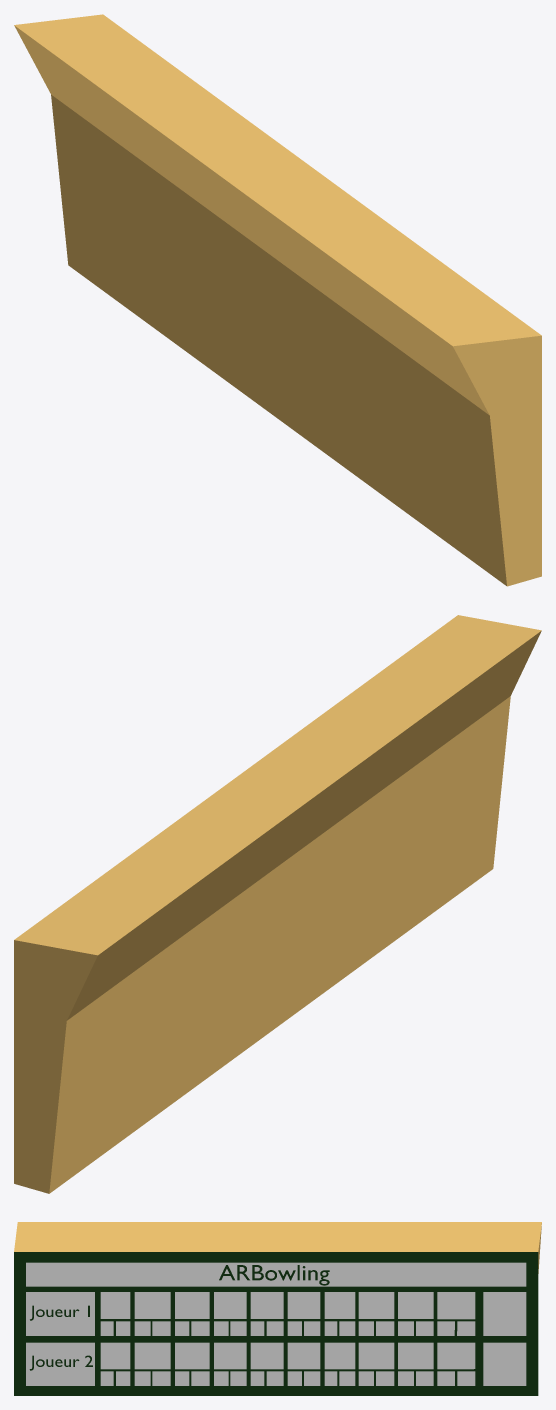
The model's file is displayScoreBowling.fbx.
3 views of the same model, one above another, from view 1: azimuth 30°, elevation 25°; view 2: azimuth 150°, elevation 25°; view 3: azimuth 270°, elevation 25° (orthographic). The views are drawn at different scales.
Visible parts, largest first — view 1: Text.001; view 2: Text.001; view 3: Text.001, Text.002.
Boxes of the visible parts, box(x1,y1,x2,y2) form: Text.001: box(14, 14, 541, 586); Text.001: box(14, 615, 541, 1193); Text.001: box(14, 1222, 541, 1395); Text.002: box(29, 1355, 92, 1370).
Size of the model in its own units: 0.7546 by 2.08 by 6.65.
